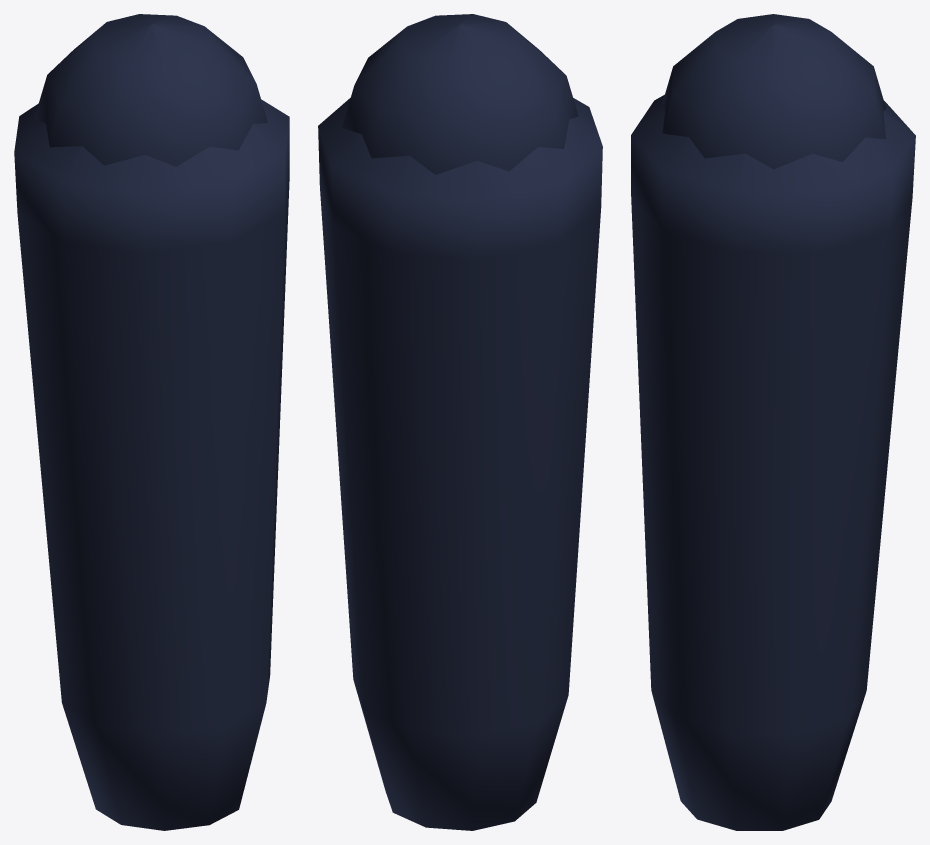
The model's file is thigh_L.obj.
The picture shows the model from 3 angles, left to right: view 1: azimuth 30°, elevation 25°; view 2: azimuth 150°, elevation 25°; view 3: azimuth 270°, elevation 25°; orthographic projection.
Parts seen in each view (by area): view 1: thigh_L; view 2: thigh_L; view 3: thigh_L.
Part boxes in pixels (left/top/right/bottom): thigh_L: left=14, top=14, right=289, bottom=830; thigh_L: left=318, top=14, right=602, bottom=830; thigh_L: left=631, top=14, right=915, bottom=830.
Size of the model in its own units: 0.1806 by 0.5734 by 0.187.
